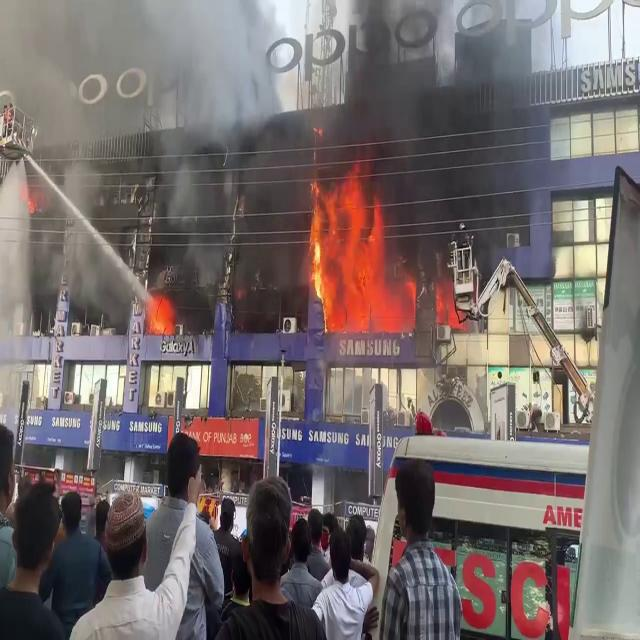Fire: (312, 156, 418, 335), (147, 288, 178, 337), (437, 276, 460, 329)
Smoke: (0, 33, 177, 164), (172, 76, 232, 337)
